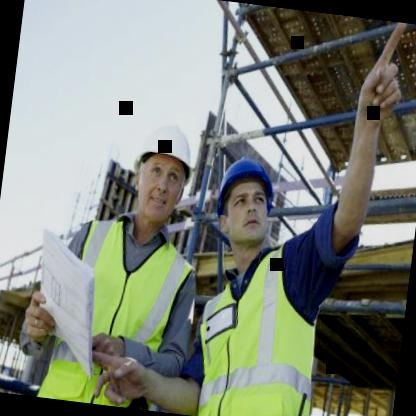helmet: (116, 99, 208, 238), (205, 136, 287, 264)
